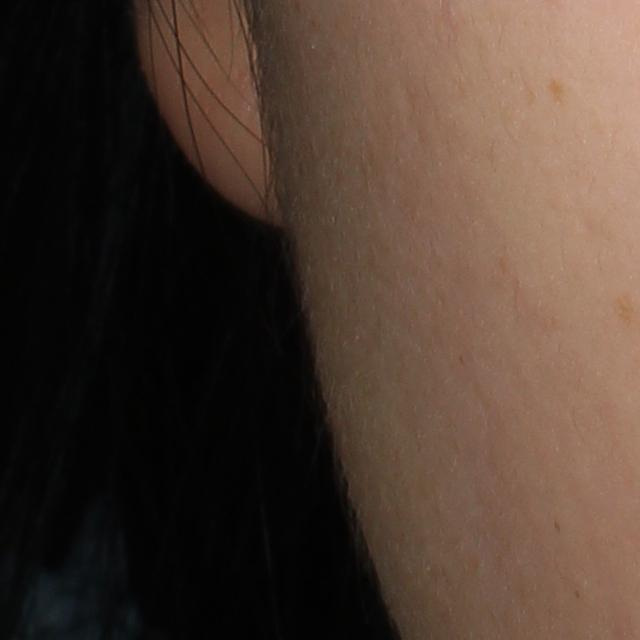melasma: (546, 76, 568, 107)
